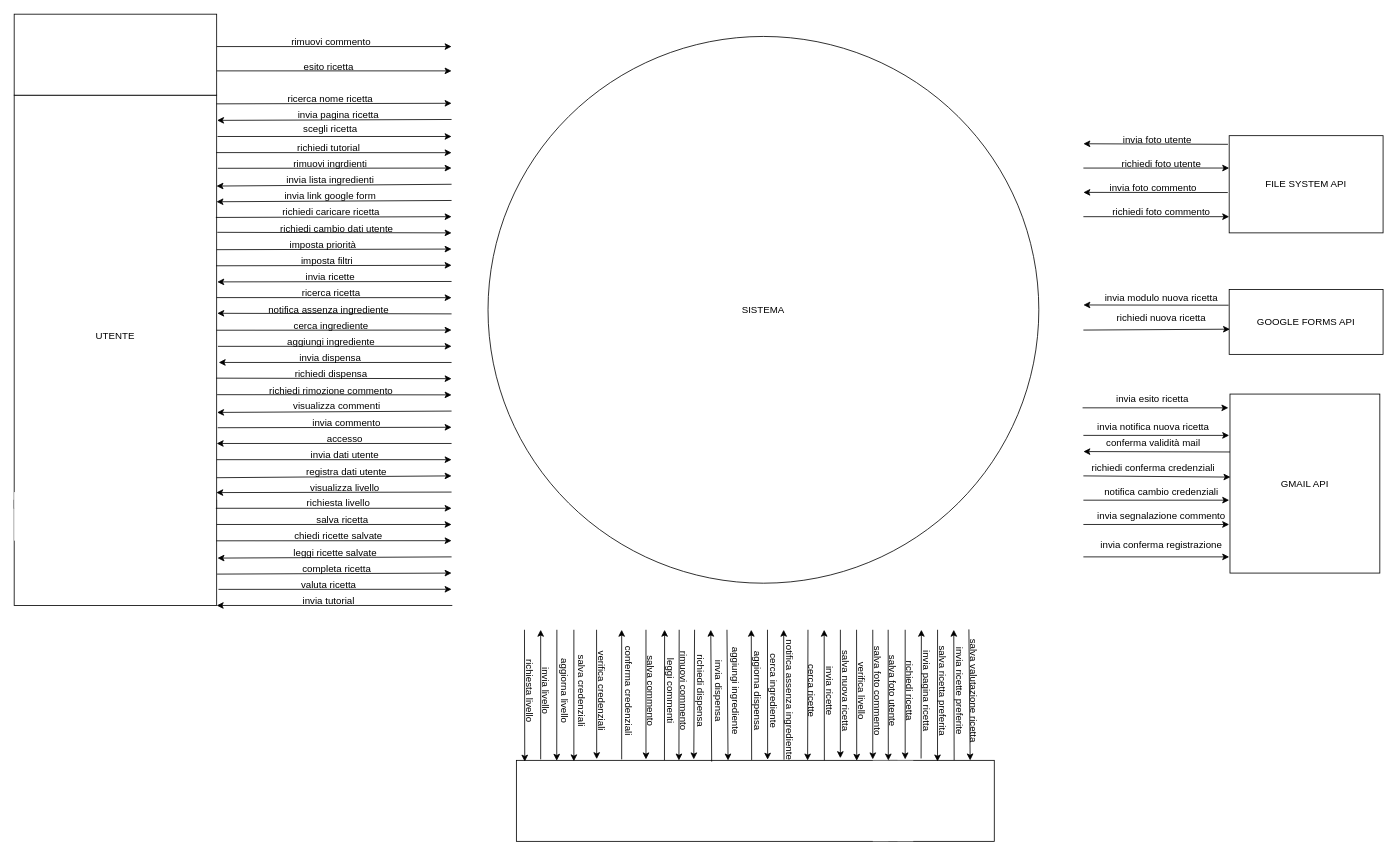
The diagram is 1397 pixels wide and 856 high, and some of its shapes have lost their labels. The centre of each missing label's shape, as x and y in pixels:
"AMMINISTRATORE" goes at (115,54).
"MongoDB" goes at (706,800).
